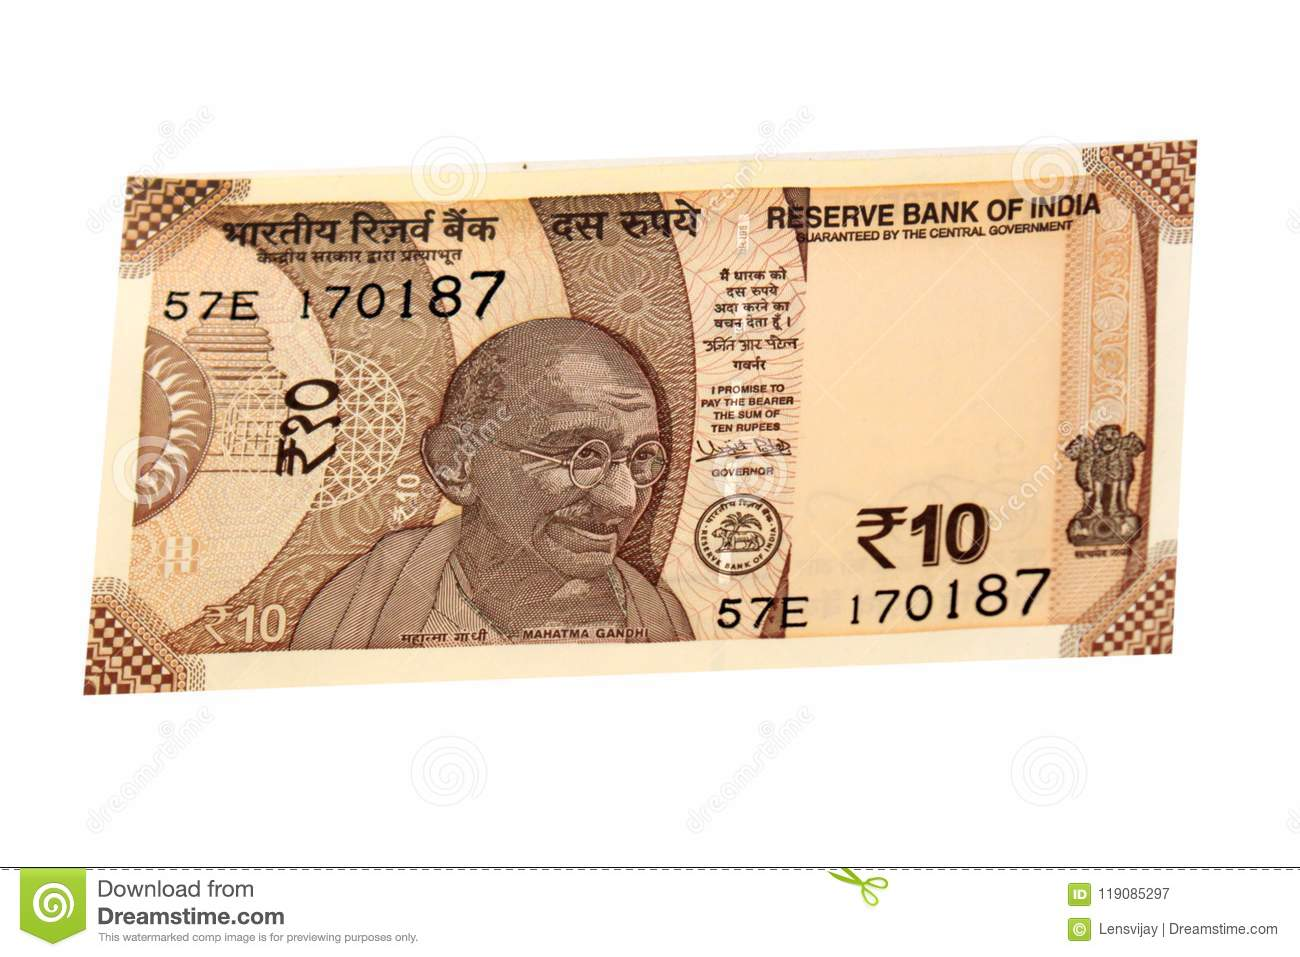ten_rupees_note: (81, 156, 1192, 697)
